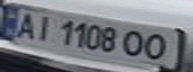0: (84, 21, 103, 52)
1: (54, 17, 75, 46), (69, 19, 87, 48)
8: (100, 25, 121, 54)
A: (9, 10, 42, 40)
I: (30, 12, 57, 43)
O: (139, 30, 172, 61), (118, 28, 151, 57)
